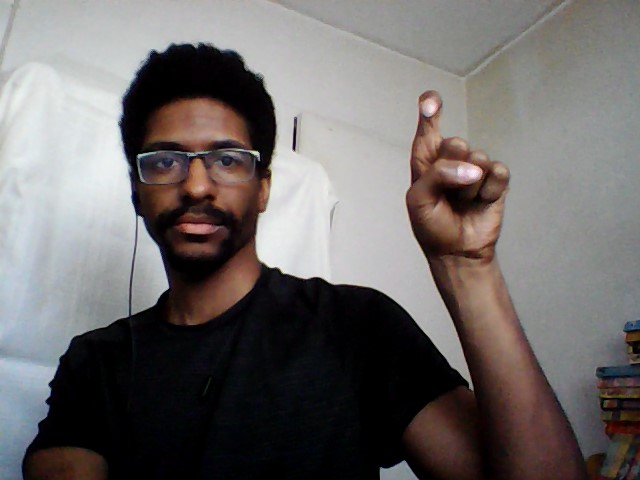x: (401, 83, 514, 266)
